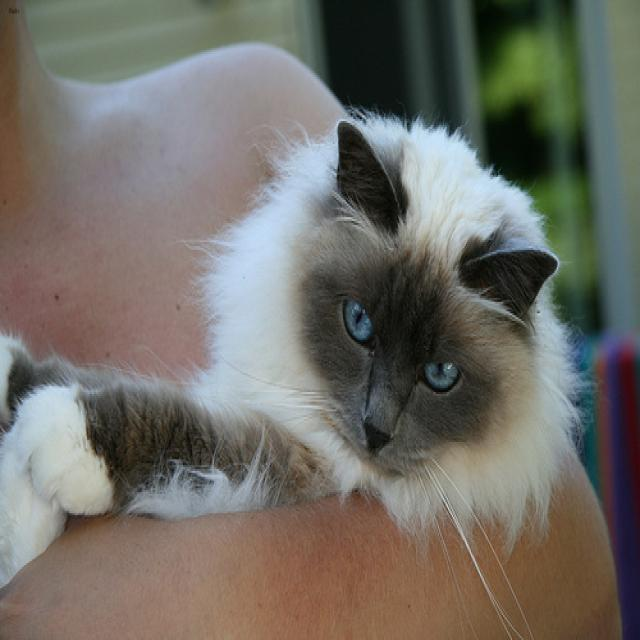Birman: (297, 117, 555, 477)
